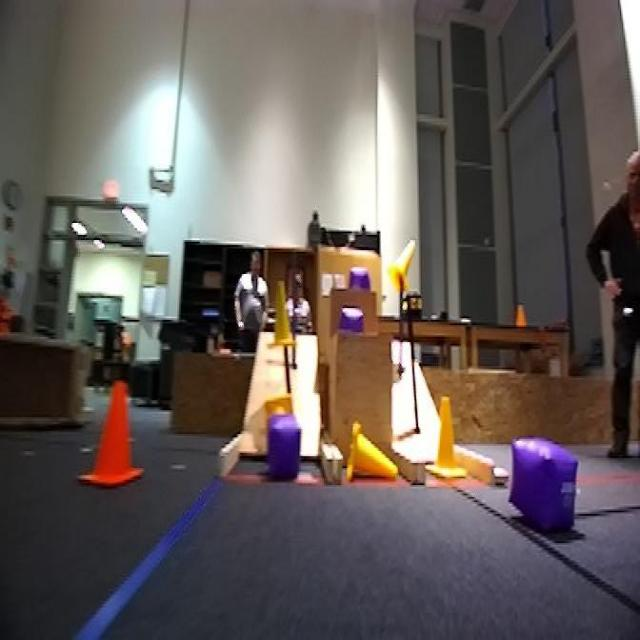frc_cone: (430, 403, 468, 487), (349, 421, 394, 476), (271, 286, 298, 349), (389, 242, 414, 292), (263, 400, 291, 419)
frc_cube: (515, 441, 578, 536), (267, 422, 302, 480), (342, 312, 364, 336), (352, 266, 369, 288)
